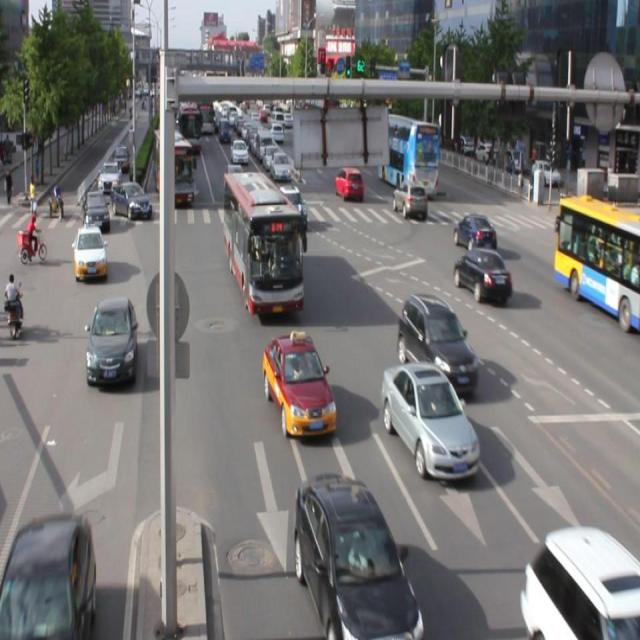car: (293, 470, 422, 640), (520, 525, 640, 640), (0, 513, 96, 640), (381, 360, 480, 478), (396, 293, 478, 398), (262, 332, 336, 435), (86, 298, 138, 386), (451, 247, 512, 301), (452, 212, 497, 253)
van: (551, 196, 640, 330), (224, 172, 303, 314)
